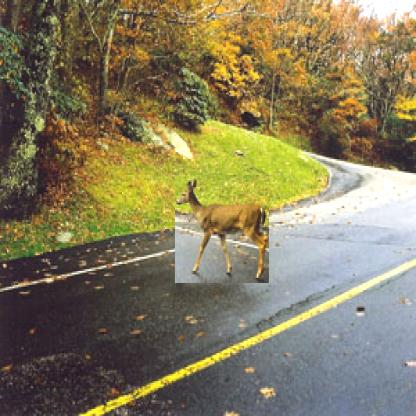Deer: (175, 175, 269, 283)
